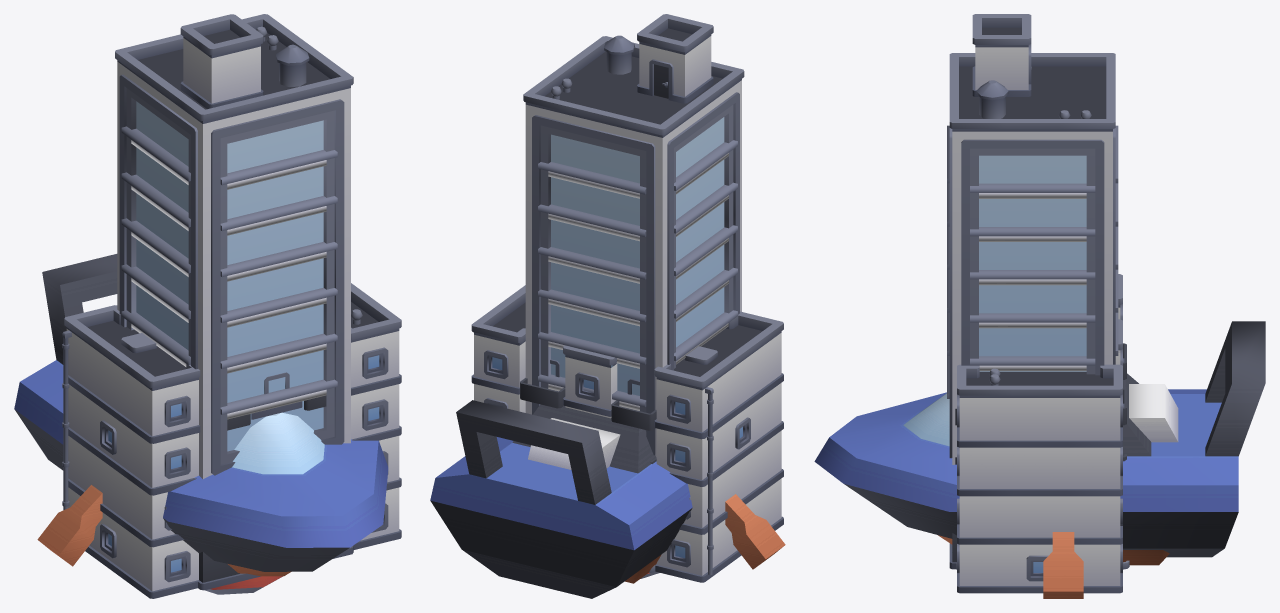
Rendered from kit.glb.
3 renders of one model, left to right at view 1: azimuth 30°, elevation 25°; view 2: azimuth 150°, elevation 25°; view 3: azimuth 270°, elevation 25°, orthographic. The views are drawn at different scales.
Visible parts, largest first — view 1: building-skyscraper-c, building-j, boat-speed-a, paddles, buoy; view 2: building-skyscraper-c, boat-speed-a, building-j, paddles; view 3: building-skyscraper-c, boat-speed-a, building-j, paddles, boat-row-small.
Boxes of the visible parts, x1=… form: building-skyscraper-c: x1=115, y1=14, x2=353, y2=590; building-j: x1=62, y1=283, x2=401, y2=598; boat-speed-a: x1=14, y1=254, x2=388, y2=571; paddles: x1=37, y1=485, x2=102, y2=566; buoy: x1=205, y1=576, x2=282, y2=594; building-skyscraper-c: x1=523, y1=14, x2=744, y2=457; boat-speed-a: x1=430, y1=400, x2=692, y2=598; building-j: x1=471, y1=285, x2=783, y2=582; paddles: x1=725, y1=494, x2=785, y2=569; building-skyscraper-c: x1=947, y1=14, x2=1118, y2=569; boat-speed-a: x1=814, y1=321, x2=1265, y2=557; building-j: x1=955, y1=274, x2=1129, y2=593; paddles: x1=1043, y1=532, x2=1083, y2=598; boat-row-small: x1=938, y1=535, x2=1169, y2=565.
Bounding box in the file's own units: 2.75 × 4.38 × 3.37.
4 materials, 4 textured.
